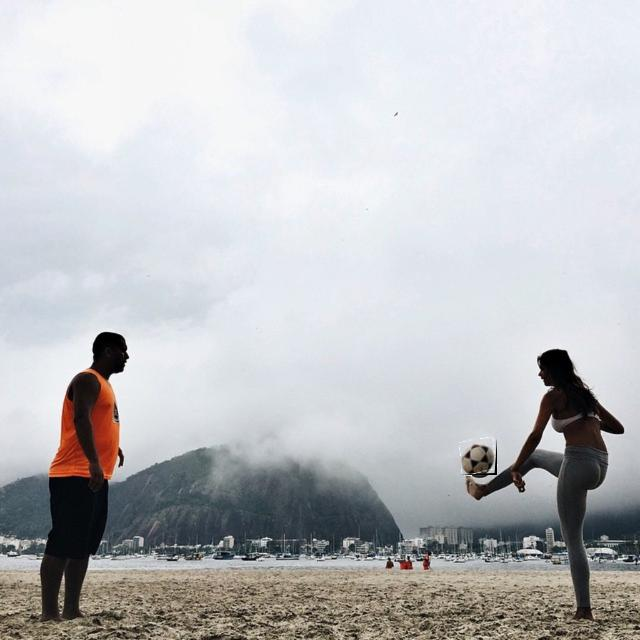Football: (461, 439, 497, 475)
